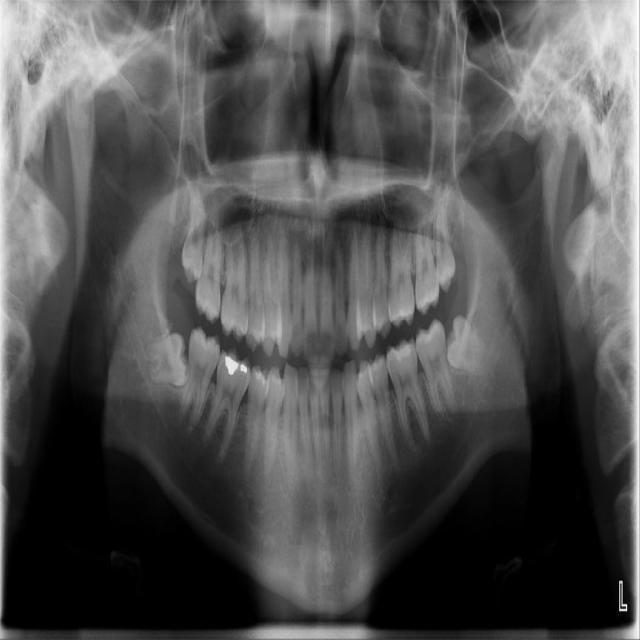Filling: (222, 353, 248, 378), (388, 342, 412, 364), (254, 367, 268, 386)
impacted tooth: (446, 316, 498, 371), (137, 333, 186, 386), (183, 180, 206, 280)
